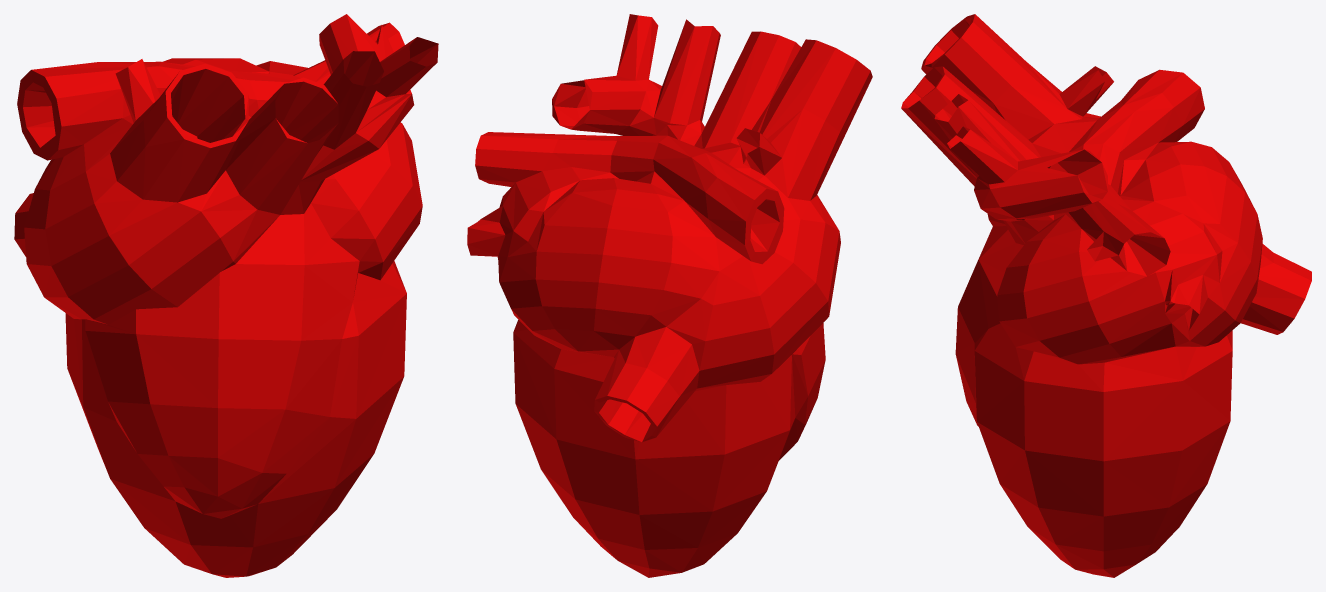
Rendered from Mdl_heart.fbx.
3 views of the same model, side by side, from view 1: azimuth 30°, elevation 25°; view 2: azimuth 150°, elevation 25°; view 3: azimuth 270°, elevation 25° (orthographic). The views are drawn at different scales.
Parts seen in each view (by area): view 1: Group39658; view 2: Group39658; view 3: Group39658.
Boxes of the visible parts, <box> form: Group39658: <box>14,14,438,577</box>; Group39658: <box>467,14,872,577</box>; Group39658: <box>901,14,1311,577</box>.
Size of the model in its own units: 69.2 by 105 by 77.42.
